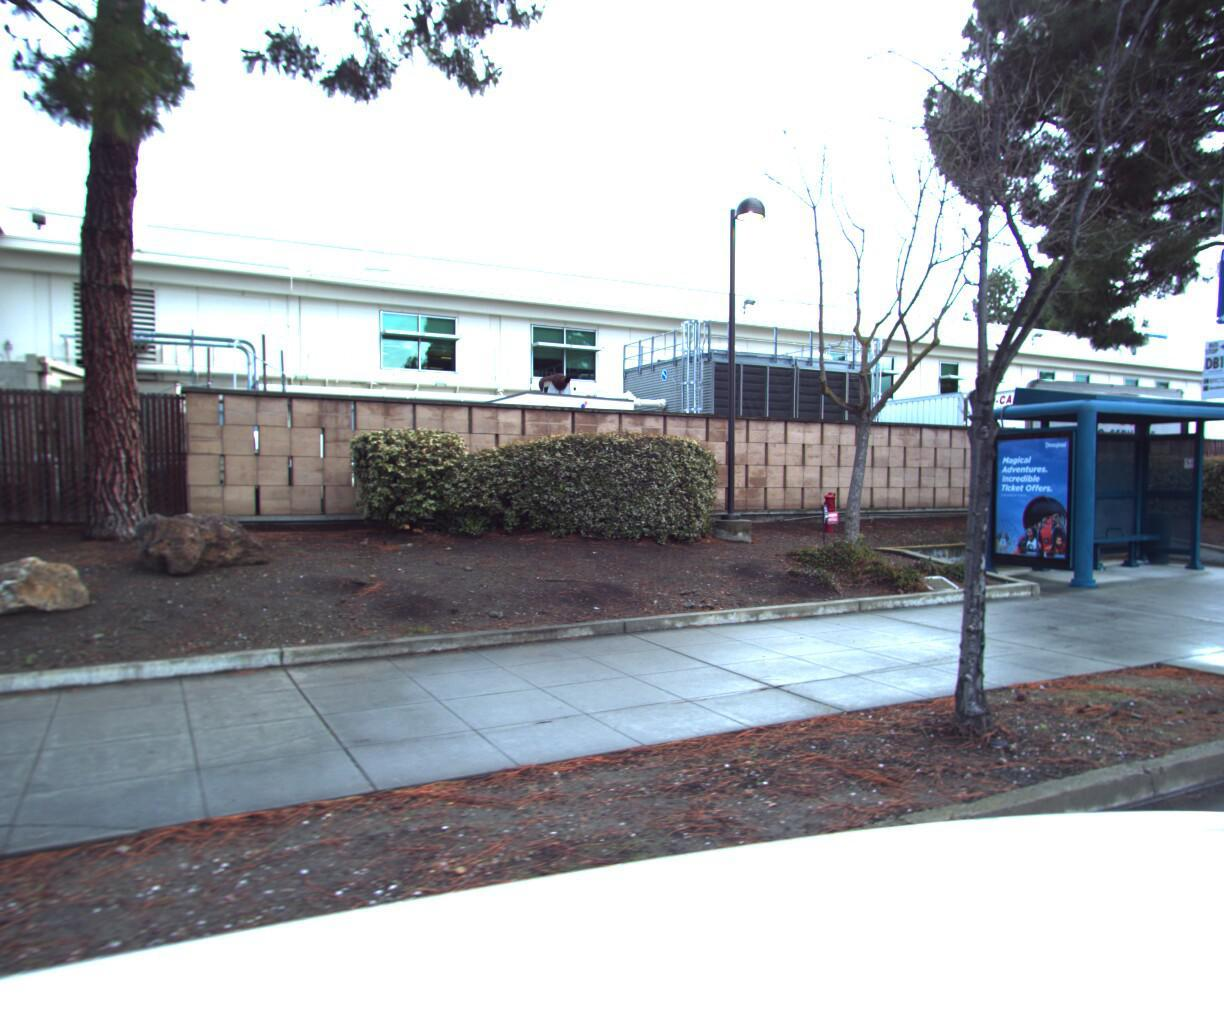truck: (919, 370, 1196, 504)
